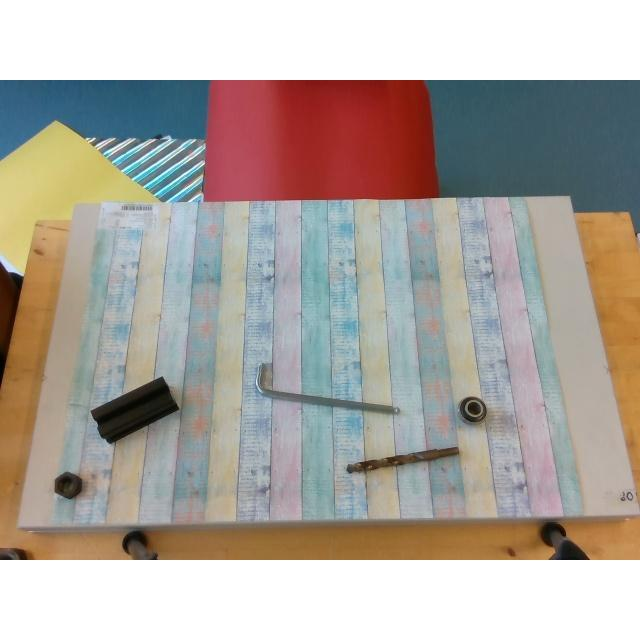AllenKey: (257, 363, 399, 413)
Bearing2: (458, 396, 486, 422)
Drill: (347, 446, 458, 472)
M20: (54, 472, 82, 498)
S40_40_B: (90, 378, 178, 442)
